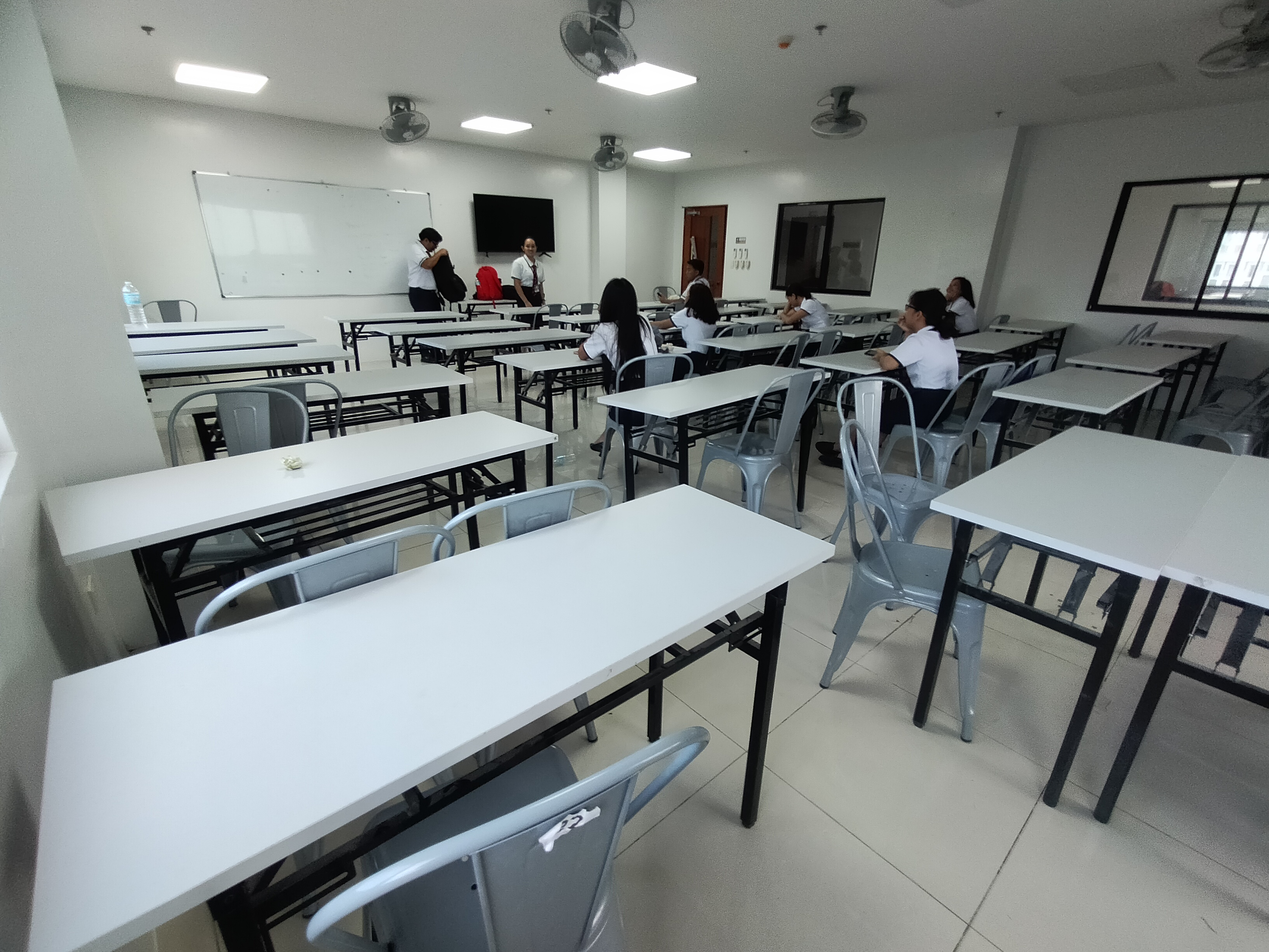with-student: (799, 285, 961, 438), (492, 277, 691, 397), (627, 280, 737, 347), (886, 274, 981, 339), (730, 282, 832, 339), (633, 259, 714, 311)
